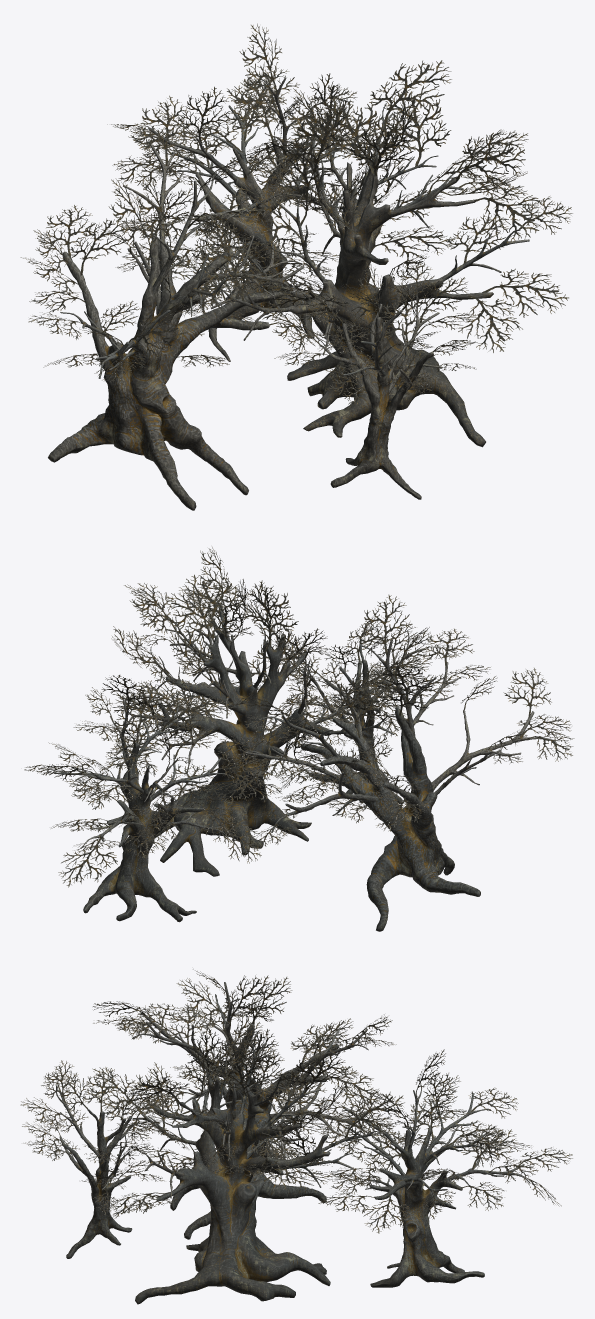
File: tree_8.glb
3 views of the same model, one above another, from view 1: azimuth 30°, elevation 25°; view 2: azimuth 150°, elevation 25°; view 3: azimuth 270°, elevation 25° (orthographic). The views are drawn at different scales.
Parts seen in each view (by area): view 1: branches_4, tree4, tree1, branches, branches_3, tree2, branches_2, tree3; view 2: tree1, tree4, branches_4, branches, branches_3, tree2, branches_2, tree3; view 3: tree1, branches_4, branches, branches_3, tree2, tree4, branches_2, tree3.
Boxes of the visible parts, bbox=[...] form: branches_4: bbox=[195, 60, 572, 352]; tree4: bbox=[48, 143, 308, 510]; tree1: bbox=[211, 103, 529, 447]; branches: bbox=[20, 95, 343, 382]; branches_3: bbox=[107, 23, 385, 316]; tree2: bbox=[139, 77, 347, 361]; branches_2: bbox=[267, 260, 478, 404]; tree3: bbox=[319, 296, 442, 499]; tree1: bbox=[114, 602, 394, 876]; tree4: bbox=[240, 639, 556, 931]; branches_4: bbox=[111, 547, 432, 803]; branches: bbox=[217, 594, 574, 850]; branches_3: bbox=[24, 675, 272, 887]; tree2: bbox=[49, 695, 234, 922]; branches_2: bbox=[278, 613, 460, 745]; tree3: bbox=[299, 631, 423, 804]; tree1: bbox=[132, 1038, 385, 1304]; branches_4: bbox=[87, 1011, 404, 1218]; branches: bbox=[93, 969, 404, 1190]; branches_3: bbox=[309, 1049, 572, 1233]; tree2: bbox=[342, 1082, 530, 1287]; tree4: bbox=[132, 982, 379, 1239]; branches_2: bbox=[20, 1060, 170, 1214]; tree3: bbox=[56, 1085, 134, 1258].
Size of the model in its own units: 3720 by 2397 by 4381.
5 materials, 5 textured.
